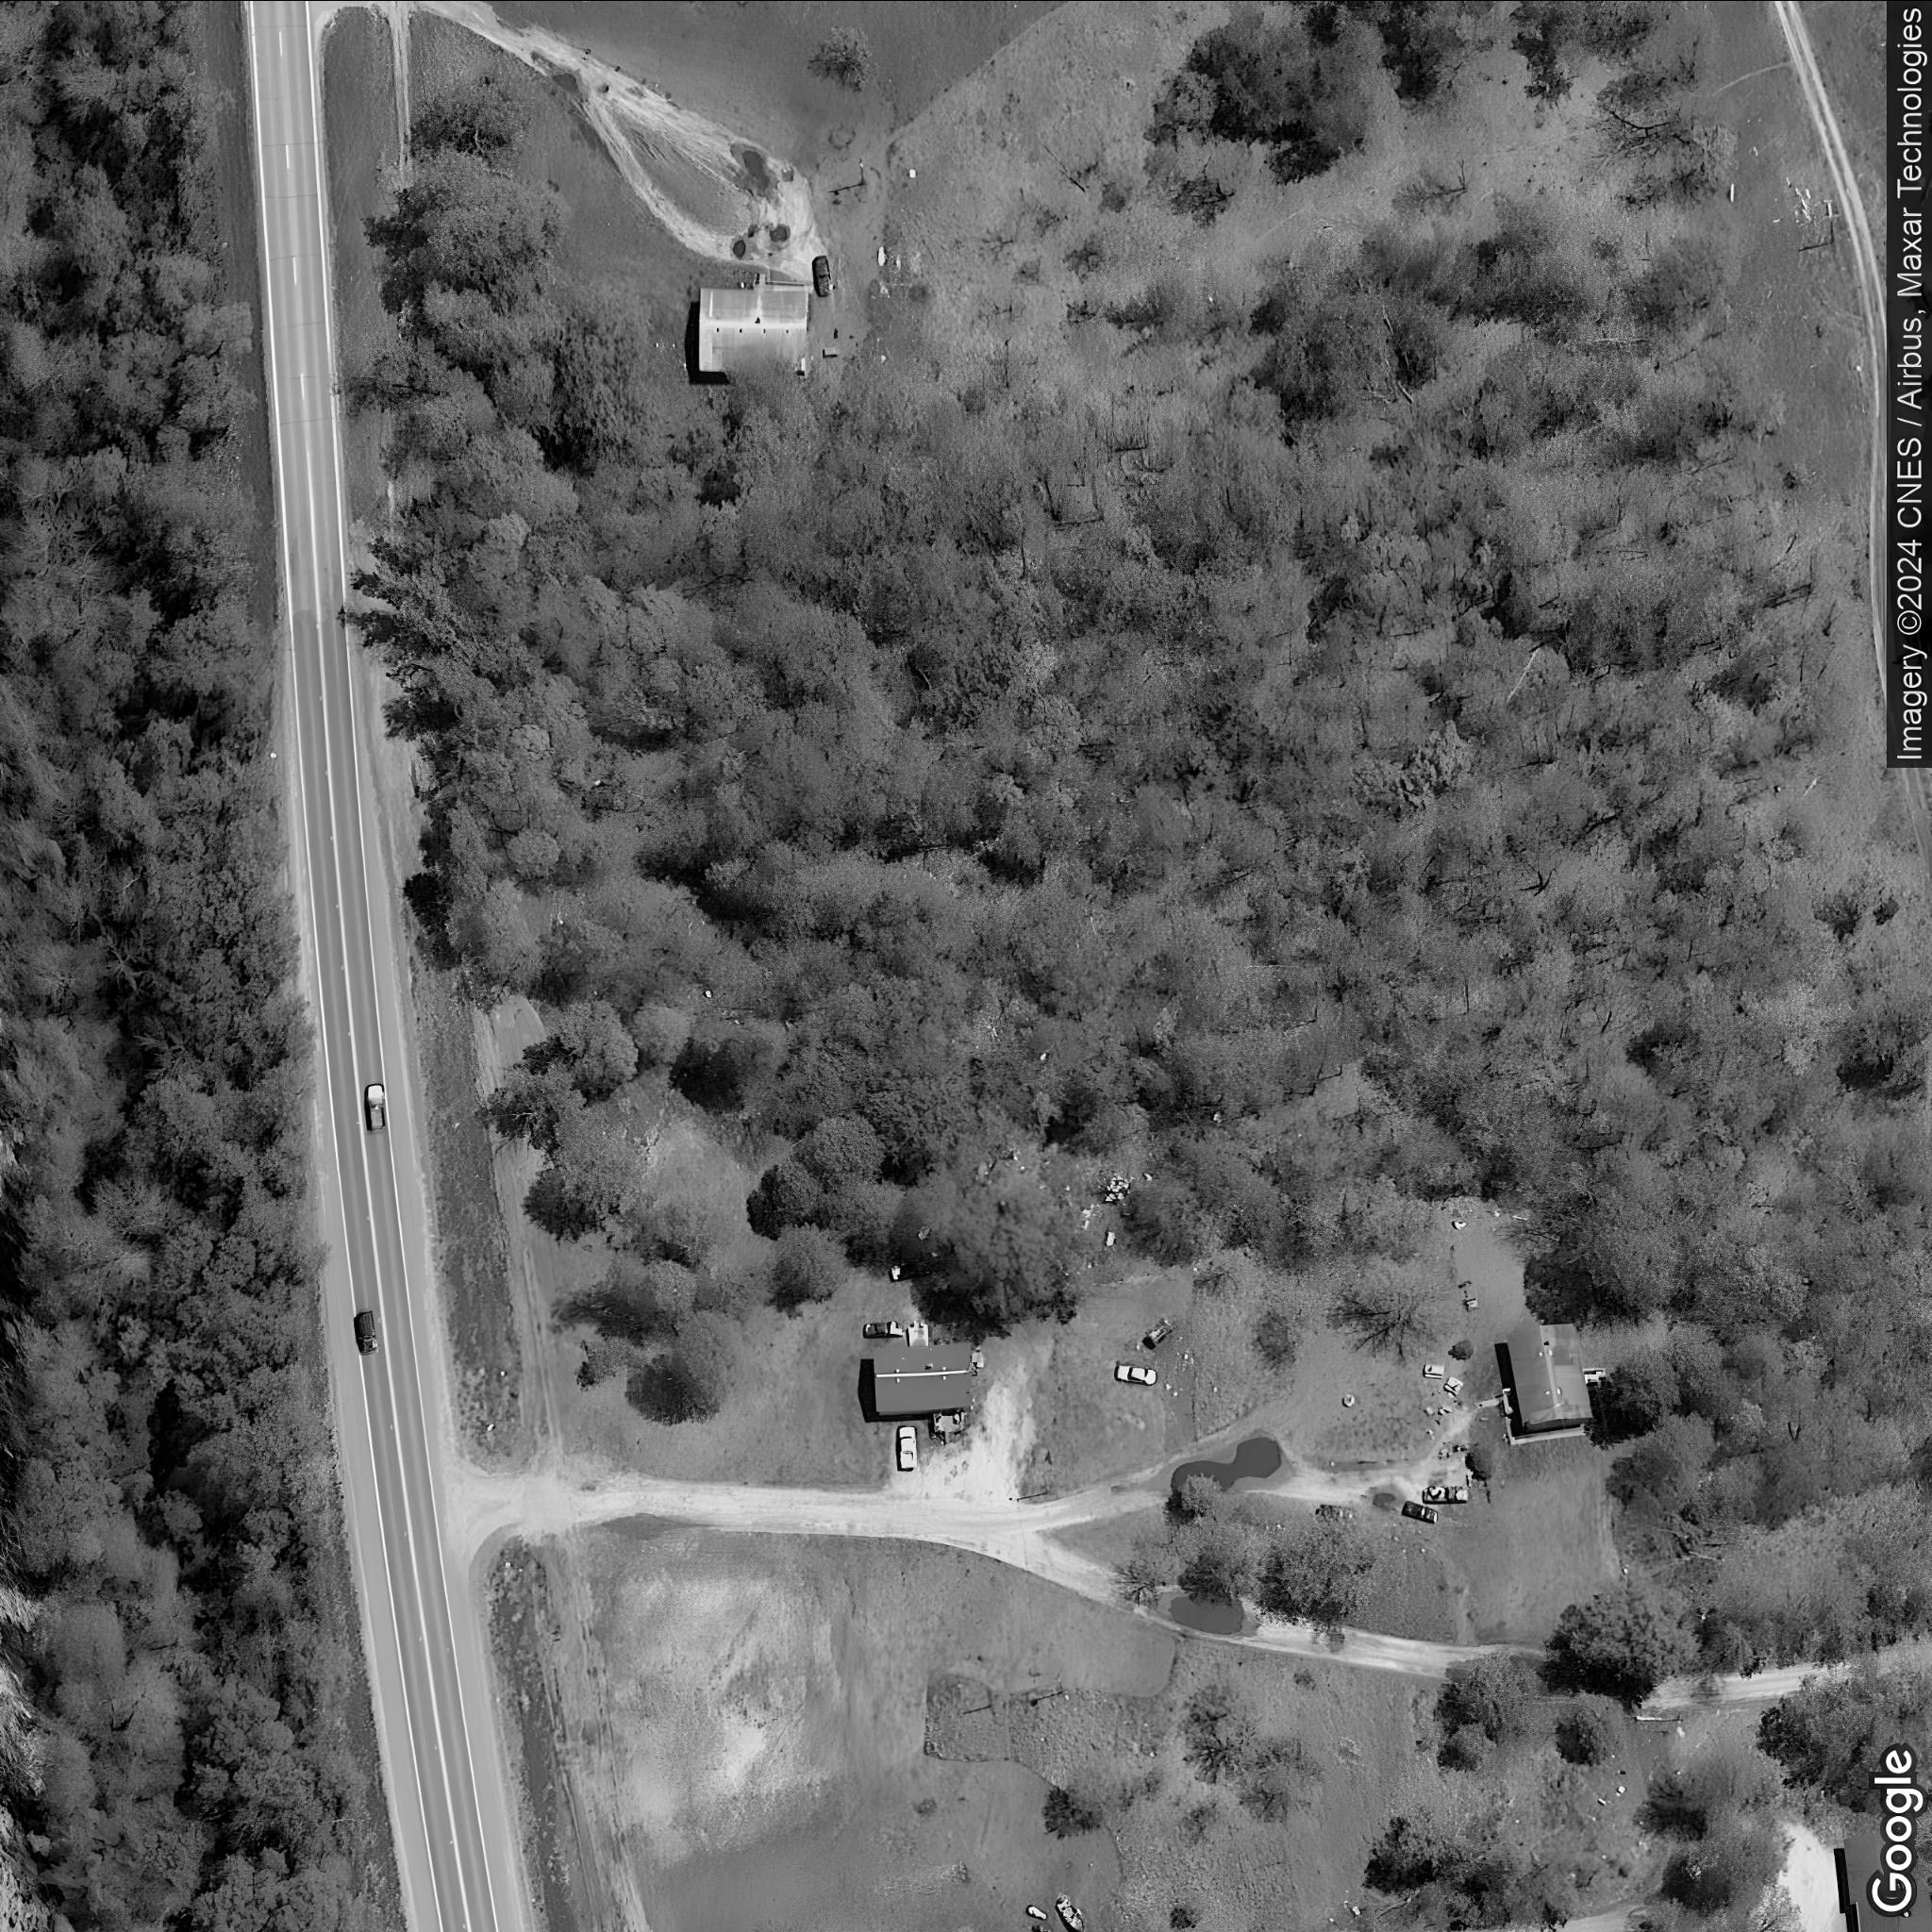House: (699, 285, 810, 375), (1507, 1320, 1594, 1431), (1844, 1828, 1932, 1932), (874, 1341, 975, 1414)
